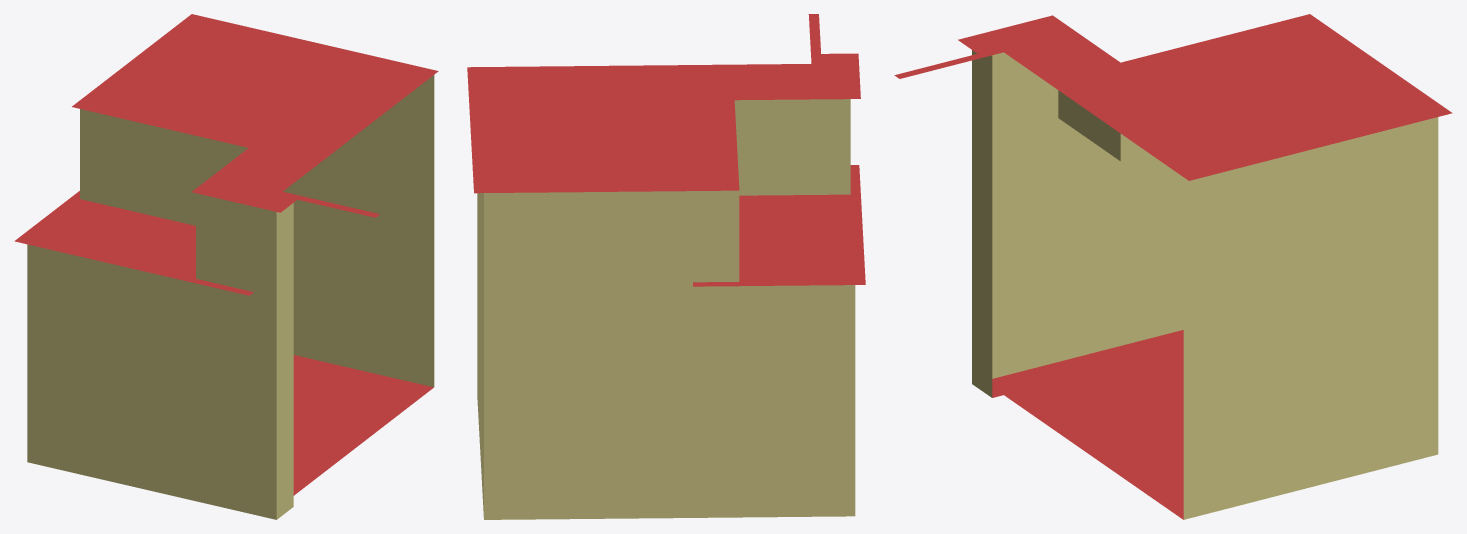
3 views of the same model, side by side, from view 1: azimuth 30°, elevation 25°; view 2: azimuth 150°, elevation 25°; view 3: azimuth 270°, elevation 25° (orthographic). The views are drawn at different scales.
Bounding box in the file's own units: 12 × 13.22 × 8.95.
